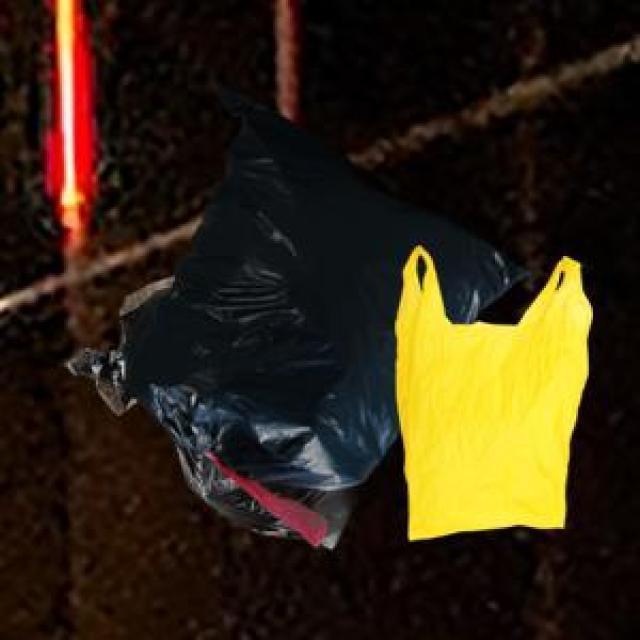miscellaneous trash: (120, 83, 529, 542), (64, 273, 353, 544)
